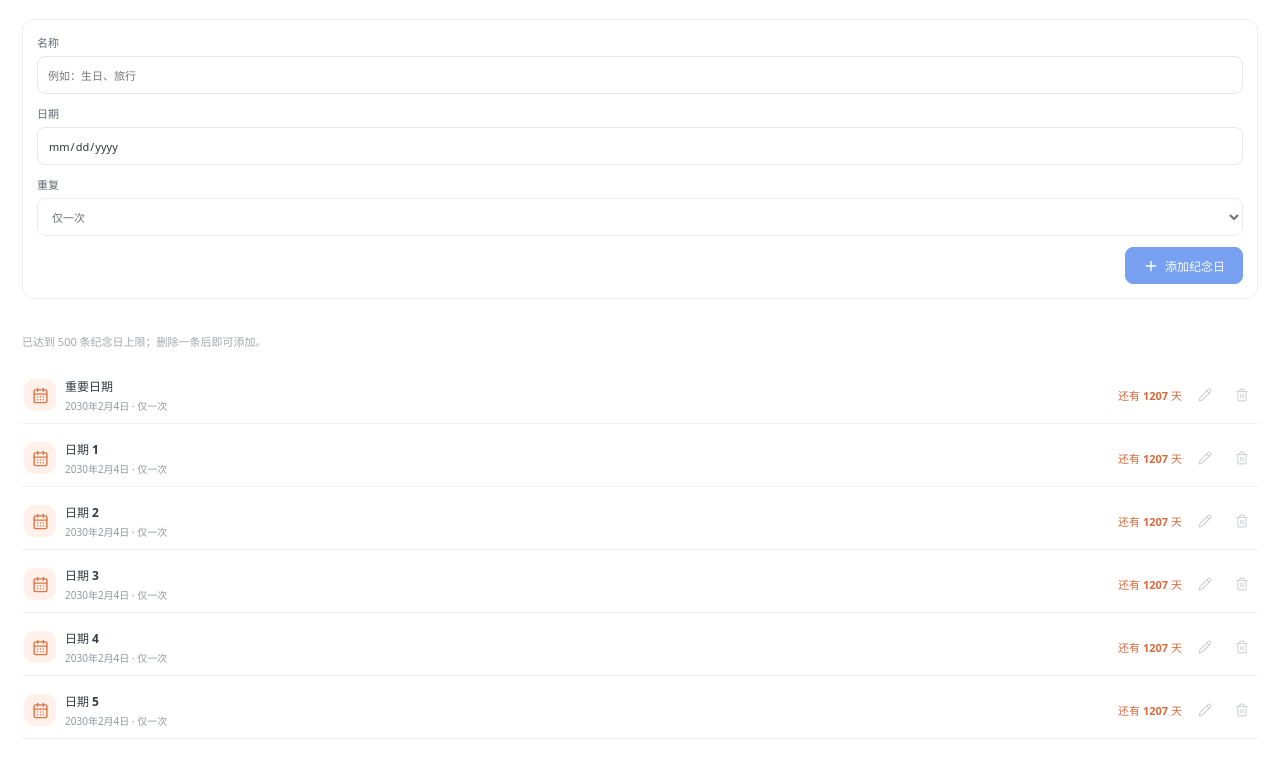
Test: countdown panel › explains the item limit while still allowing existing entries to be edited
Expected: the message "已达到 500 条纪念日上限；删除一条后即可添加。" is shown, [22,334,267,349]
Expected: the field named "纪念日名称" is disabled, [37,56,1243,94]
Click the button named "编辑重要日期" at (1205, 395), box [1191,381,1219,409]
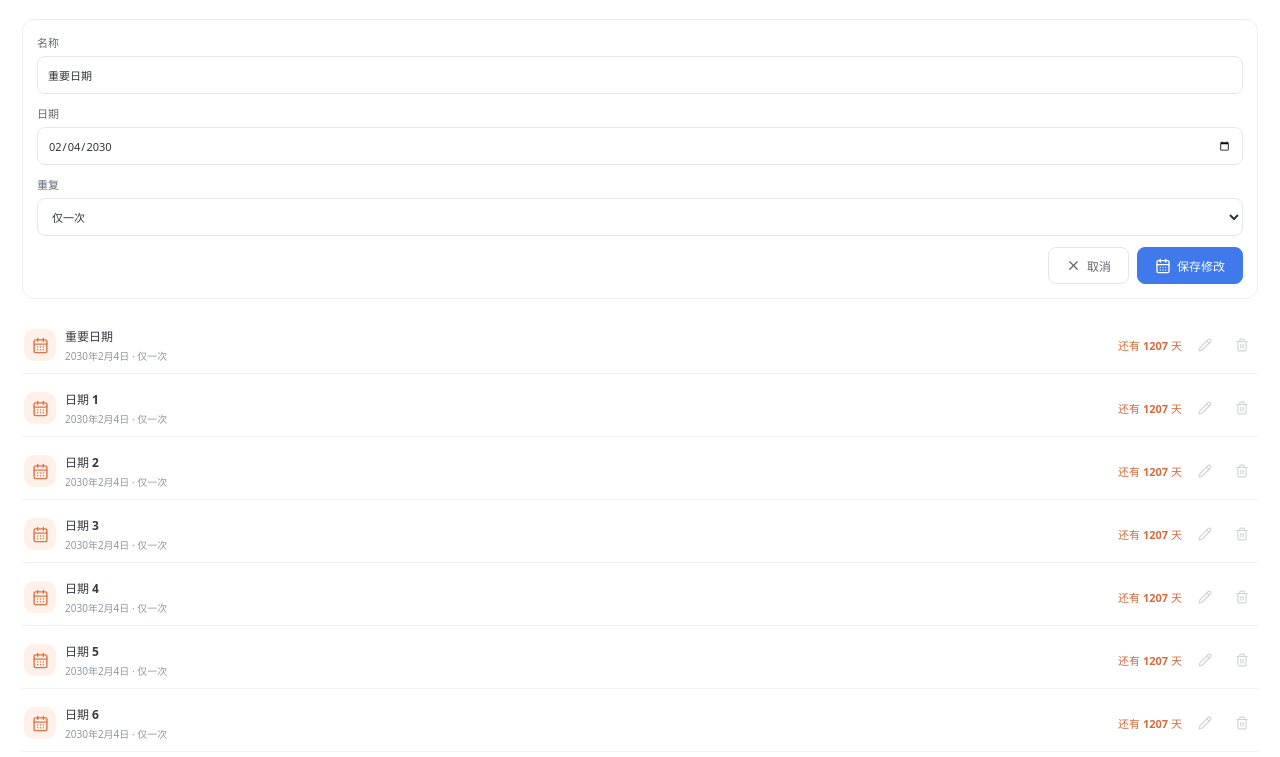
Now the field named "纪念日名称" is enabled
Now the submit button is enabled, box [1137,247,1243,284]
Replace the text in the field named "纪念日名称" with "重要日期已更新" at (640, 75), box [37,56,1243,94]
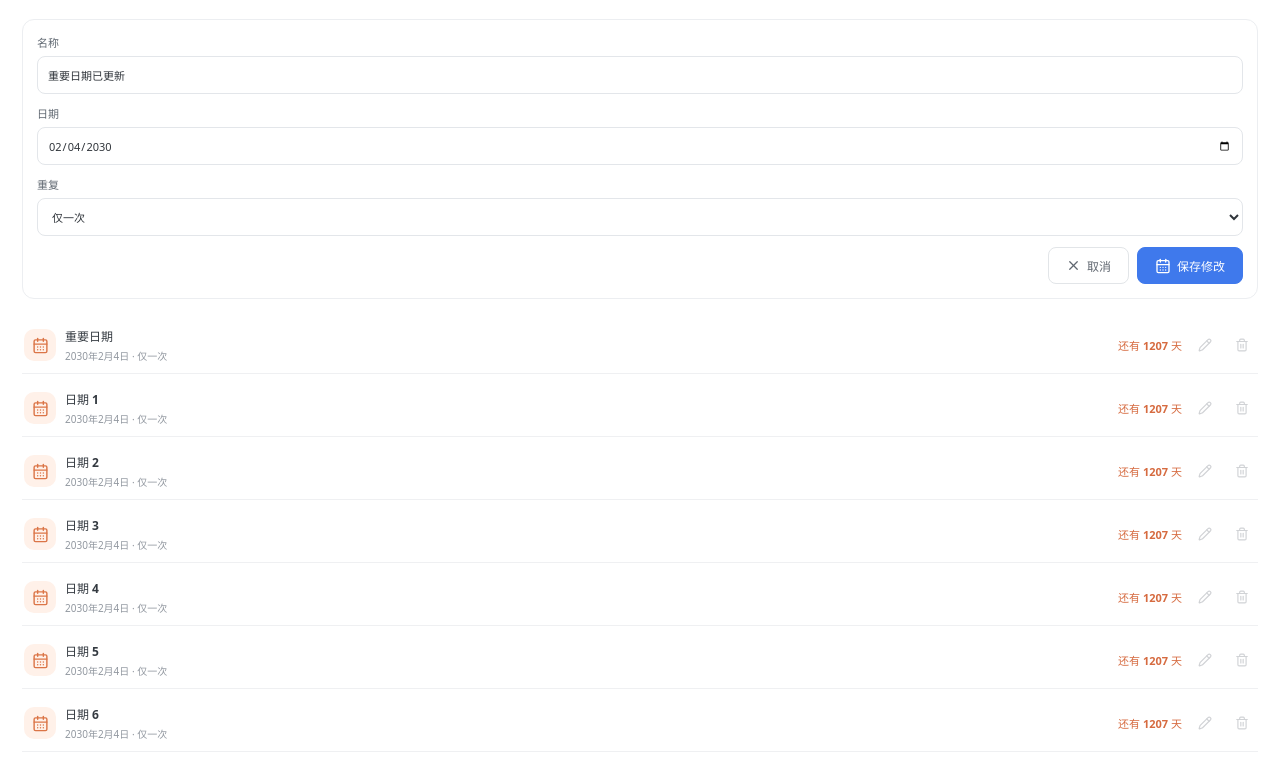
Submit the form, box [22,19,1258,299]
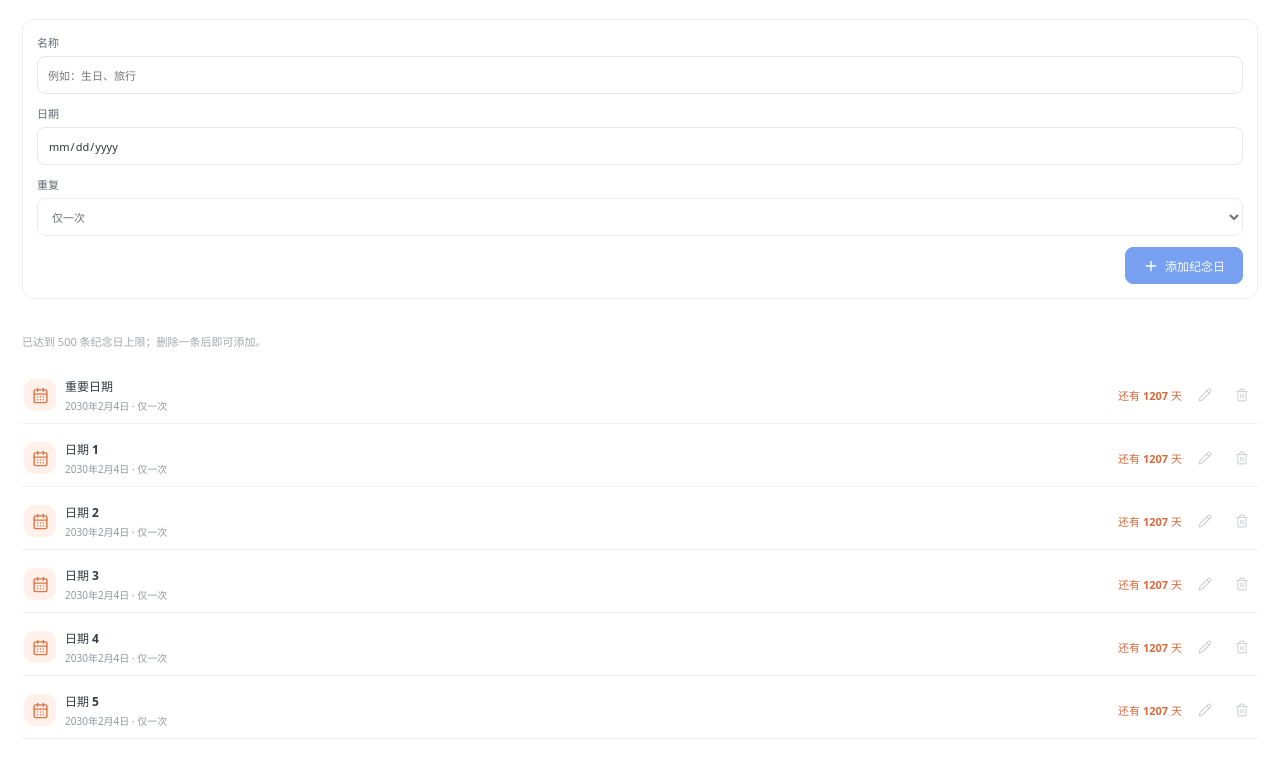
Now the number of messages is 1, box [22,334,267,349]
